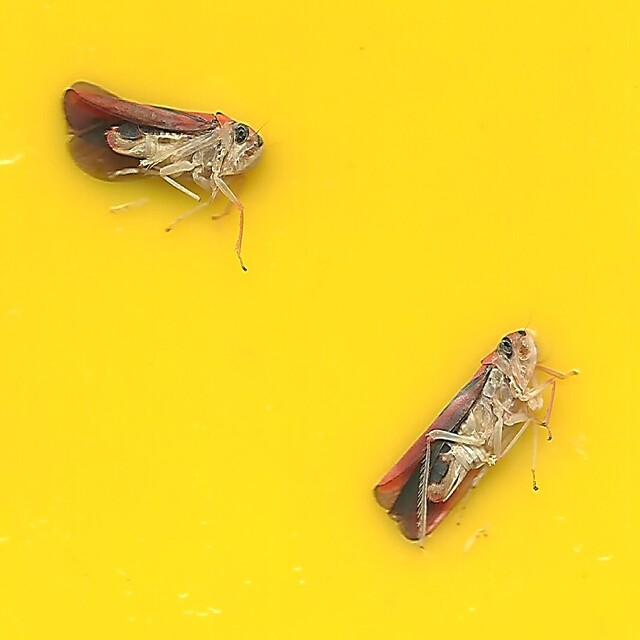Hemiptera: (369, 320, 579, 561), (61, 79, 272, 277)
